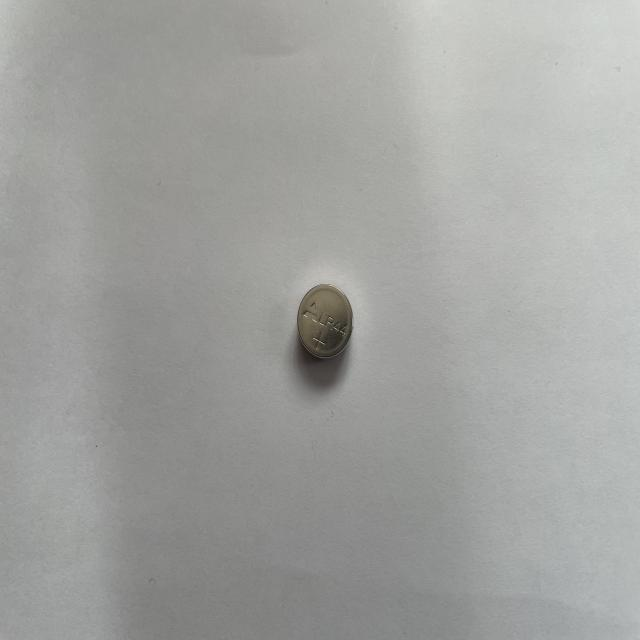COIN: (294, 284, 357, 360)
